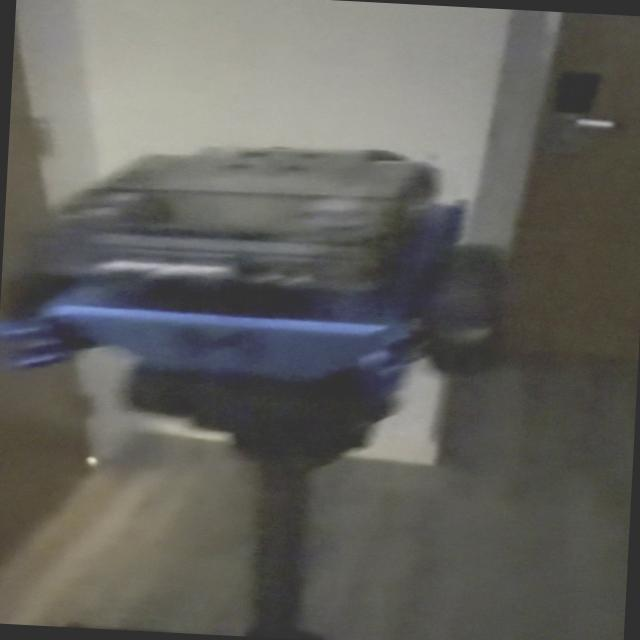mbot-detection: (0, 119, 523, 414)
